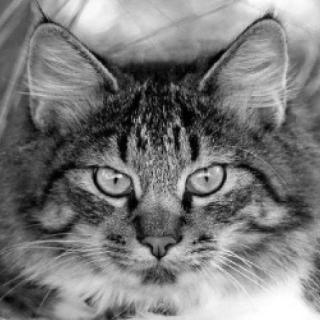cat: (24, 19, 301, 299)
nose: (134, 200, 181, 262)
